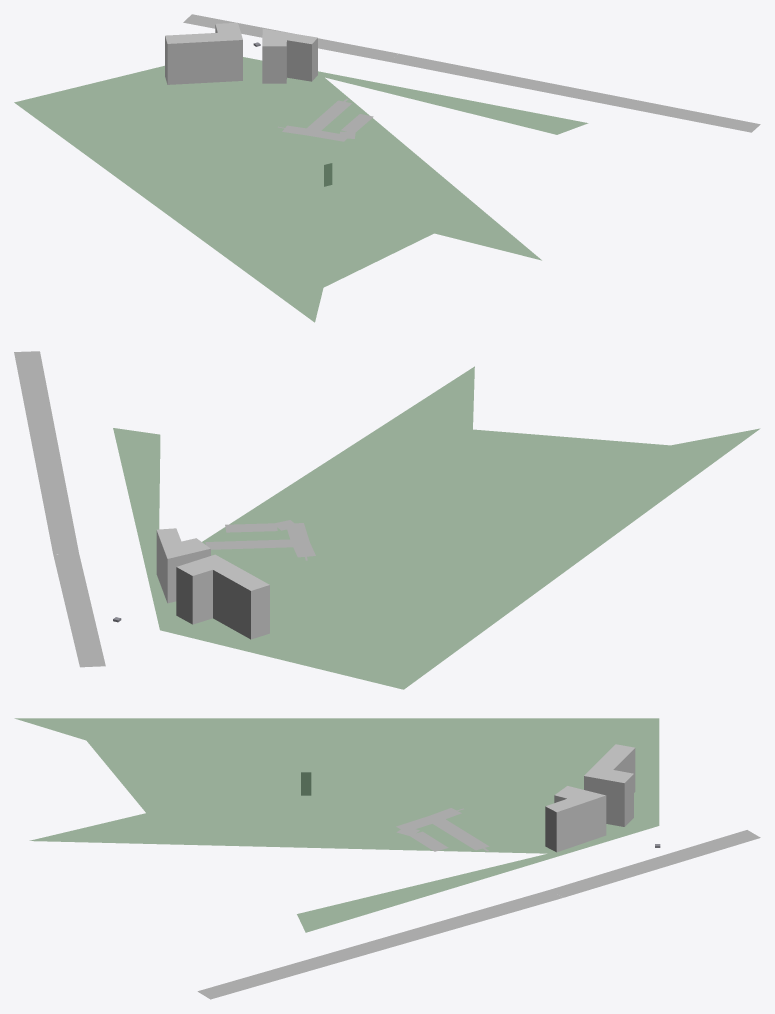
The picture shows the model from 3 angles, top to bottom: view 1: azimuth 30°, elevation 25°; view 2: azimuth 150°, elevation 25°; view 3: azimuth 270°, elevation 25°; orthographic projection. The views are drawn at different scales.
Bounding box in the file's own units: 198 × 15 × 222.
